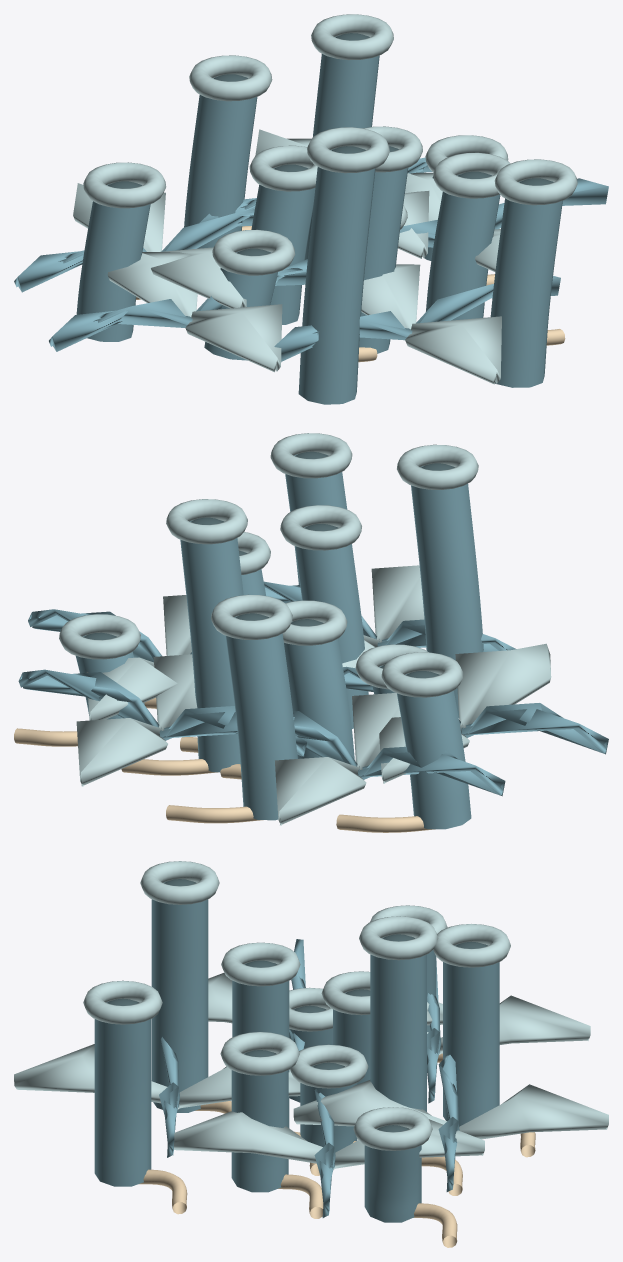
File: bio_thermal_colony_10_near.glb
3 views of the same model, one above another, from view 1: azimuth 30°, elevation 25°; view 2: azimuth 150°, elevation 25°; view 3: azimuth 270°, elevation 25° (orthographic). The views are drawn at different scales.
Visible parts, largest first — view 1: Chimney biofilm.007, Chimney biofilm.010, Chimney biofilm.006, Low buttress leaf.017, Low buttress leaf.009, Chimney biofilm.009, Chimney biofilm.005, Low buttress leaf.005, Chimney biofilm.003, Chimney biofilm.001, Low buttress leaf.016, Chimney biofilm.002 (+16 smaller); view 2: Chimney biofilm.007, Chimney biofilm.006, Chimney biofilm.003, Chimney biofilm.009, Low buttress leaf.005, Low buttress leaf.017, Low buttress leaf.013, Low buttress leaf.012, Chimney biofilm.001, Chimney biofilm.002, Low buttress leaf.004, Low buttress leaf.001 (+20 smaller); view 3: Chimney biofilm.007, Chimney biofilm.010, Chimney biofilm.003, Chimney biofilm.006, Low buttress leaf.013, Low buttress leaf.001, Chimney biofilm.005, Low buttress leaf.009, Chimney biofilm.008, Low buttress leaf.005, Chimney biofilm.002, Open vent rim.005 (+23 smaller).
Part boxes in pixels (x1,y1,x2,y2): Chimney biofilm.007: (298, 149, 375, 404); Chimney biofilm.010: (490, 181, 562, 387); Chimney biofilm.006: (184, 76, 257, 248); Low buttress leaf.017: (107, 252, 282, 372); Low buttress leaf.009: (361, 264, 501, 384); Chimney biofilm.009: (76, 183, 150, 341); Chimney biofilm.005: (426, 174, 500, 320); Low buttress leaf.005: (73, 183, 246, 308); Chimney biofilm.003: (305, 35, 379, 259); Chimney biofilm.001: (251, 167, 315, 324); Low buttress leaf.016: (49, 259, 307, 351); Chimney biofilm.002: (359, 148, 408, 353); Chimney biofilm.007: (411, 465, 483, 718); Chimney biofilm.006: (225, 616, 297, 820); Chimney biofilm.003: (180, 520, 243, 772); Chimney biofilm.009: (397, 673, 471, 829); Low buttress leaf.005: (275, 693, 400, 825); Low buttress leaf.017: (379, 643, 551, 783); Low buttress leaf.013: (76, 654, 197, 786); Low buttress leaf.012: (18, 669, 306, 756); Chimney biofilm.001: (284, 621, 354, 759); Chimney biofilm.002: (295, 526, 368, 728); Low buttress leaf.004: (293, 711, 505, 796); Low buttress leaf.001: (86, 595, 191, 720); Chimney biofilm.007: (151, 882, 208, 1112); Chimney biofilm.010: (94, 1001, 151, 1186); Chimney biofilm.003: (370, 937, 426, 1111); Chimney biofilm.006: (443, 944, 499, 1126); Low buttress leaf.013: (293, 1080, 608, 1139); Low buttress leaf.001: (174, 1111, 484, 1169); Chimney biofilm.005: (231, 1052, 288, 1192); Low buttress leaf.009: (14, 1044, 300, 1109); Chimney biofilm.008: (364, 1128, 421, 1222); Low buttress leaf.005: (427, 995, 590, 1054); Chimney biofilm.002: (232, 963, 289, 1127); Open vent rim.005: (220, 1032, 299, 1075).
Bounding box in the file's own units: 2.22 × 0.9495 × 2.09.
